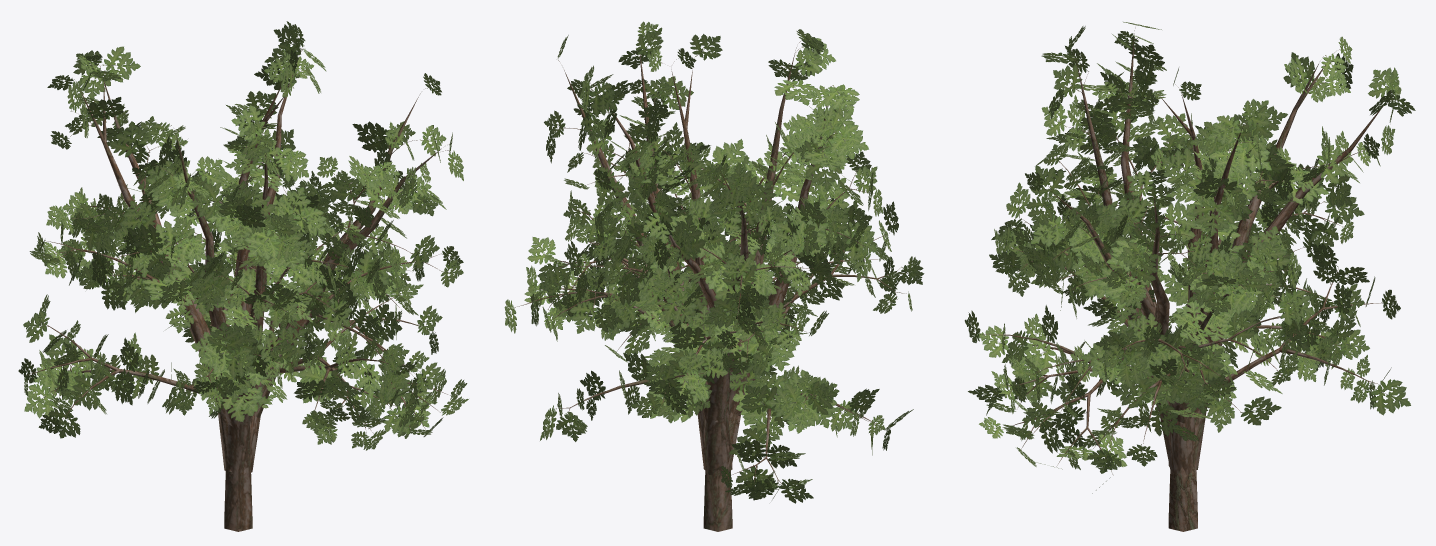
Rendered from Amazonie_Arbre_7.fbx.
3 renders of one model, left to right at view 1: azimuth 30°, elevation 25°; view 2: azimuth 150°, elevation 25°; view 3: azimuth 270°, elevation 25°, orthographic. The views are drawn at different scales.
Visible parts, largest first — view 1: Plane.001, tree; view 2: Plane.001, tree; view 3: Plane.001, tree.
Part boxes in pixels (bbox=[...]): Plane.001: bbox=[18, 21, 468, 450]; tree: bbox=[25, 49, 449, 531]; Plane.001: bbox=[504, 21, 924, 503]; tree: bbox=[515, 41, 906, 531]; Plane.001: bbox=[964, 22, 1415, 493]; tree: bbox=[982, 27, 1395, 531].
Bounding box in the file's own units: 1027 × 1207 × 1016.
